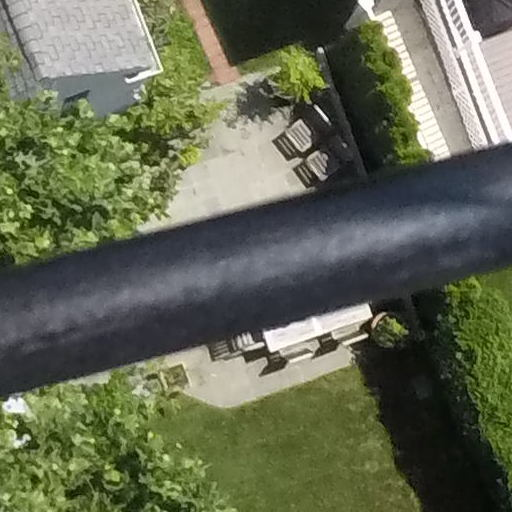flower pot: (265, 59, 317, 109), (359, 310, 411, 353)
